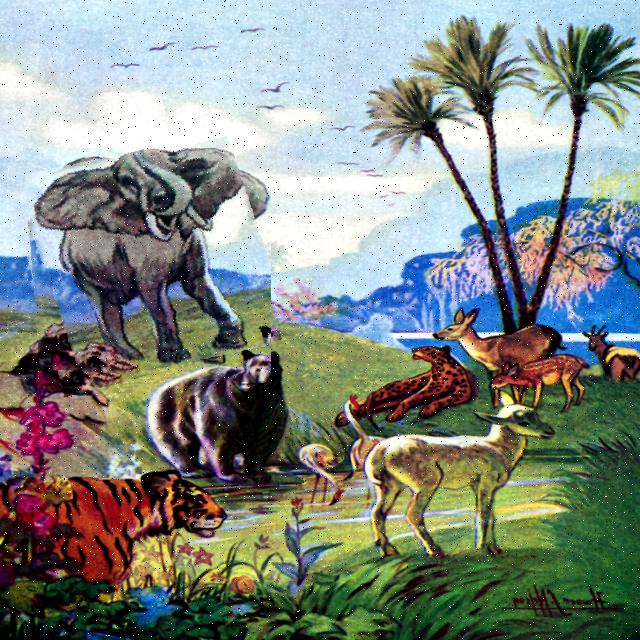elephant: (22, 148, 271, 385)
